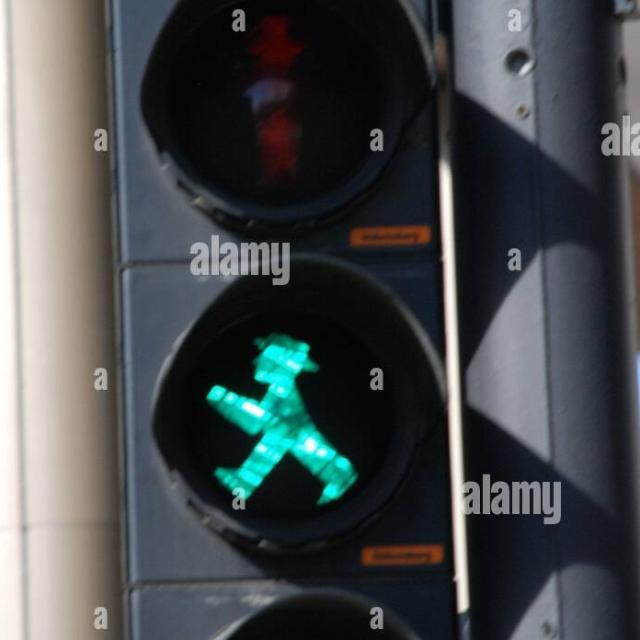green-light: (186, 319, 355, 493)
